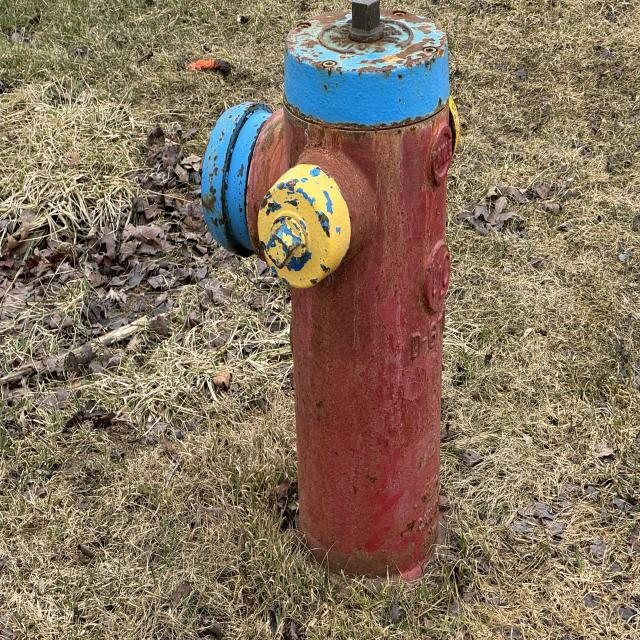Fire hydrant: (199, 0, 462, 593)
